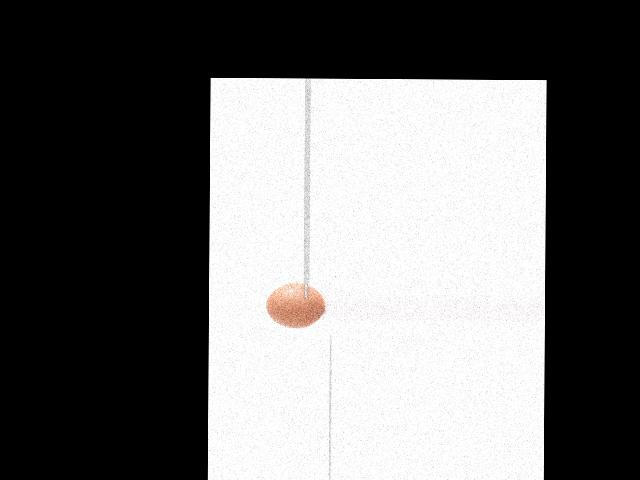egg: (266, 282, 323, 328)
